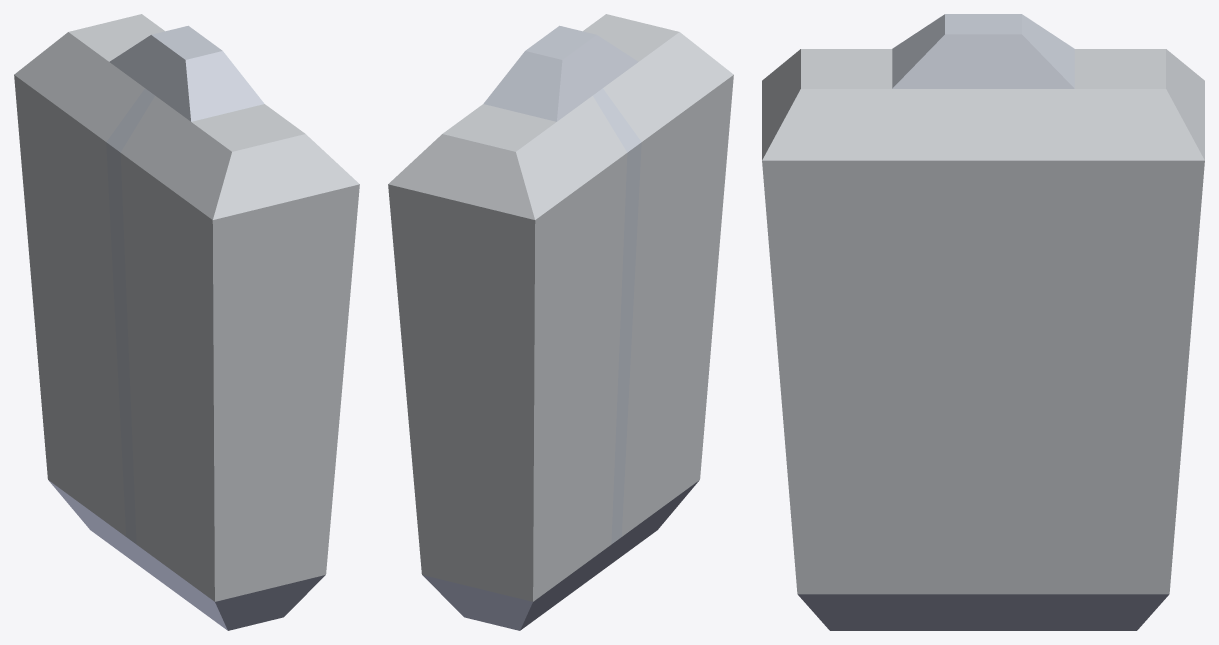
The model's file is Bandit2Torso.fbx.
The picture shows the model from 3 angles, left to right: view 1: azimuth 30°, elevation 25°; view 2: azimuth 150°, elevation 25°; view 3: azimuth 270°, elevation 25°; orthographic projection. The views are drawn at different scales.
Parts seen in each view (by area): view 1: Bandit2Torso; view 2: Bandit2Torso; view 3: Bandit2Torso.
Boxes of the visible parts, x1,y1,x2,y2 form: Bandit2Torso: (14,14,359,630); Bandit2Torso: (388,14,733,630); Bandit2Torso: (762,14,1204,630).
Size of the model in its own units: 0.2075 by 0.7157 by 0.4856.
